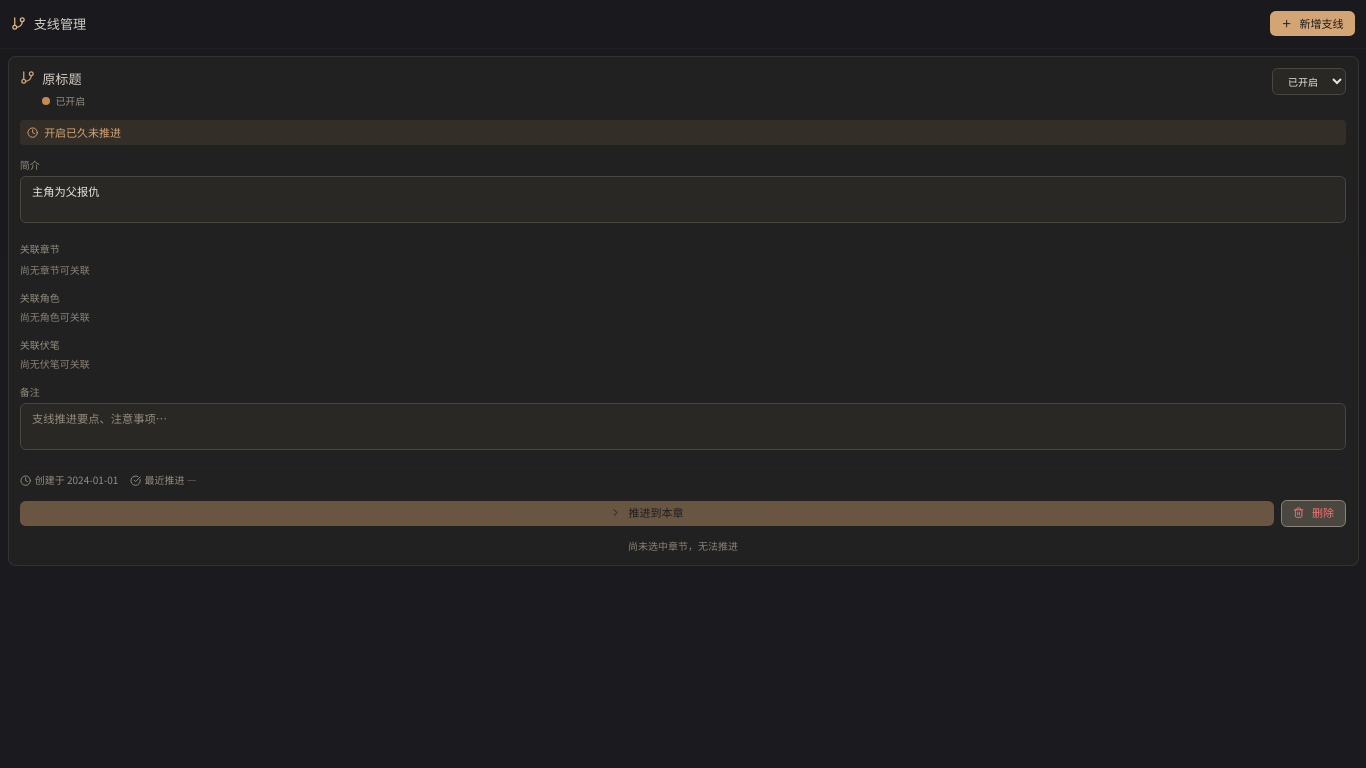
Test: SubplotPanel › 点击标题进入编辑模式
Click the button "原标题".
click(62, 79)  # box 42,68 -> 1264,89
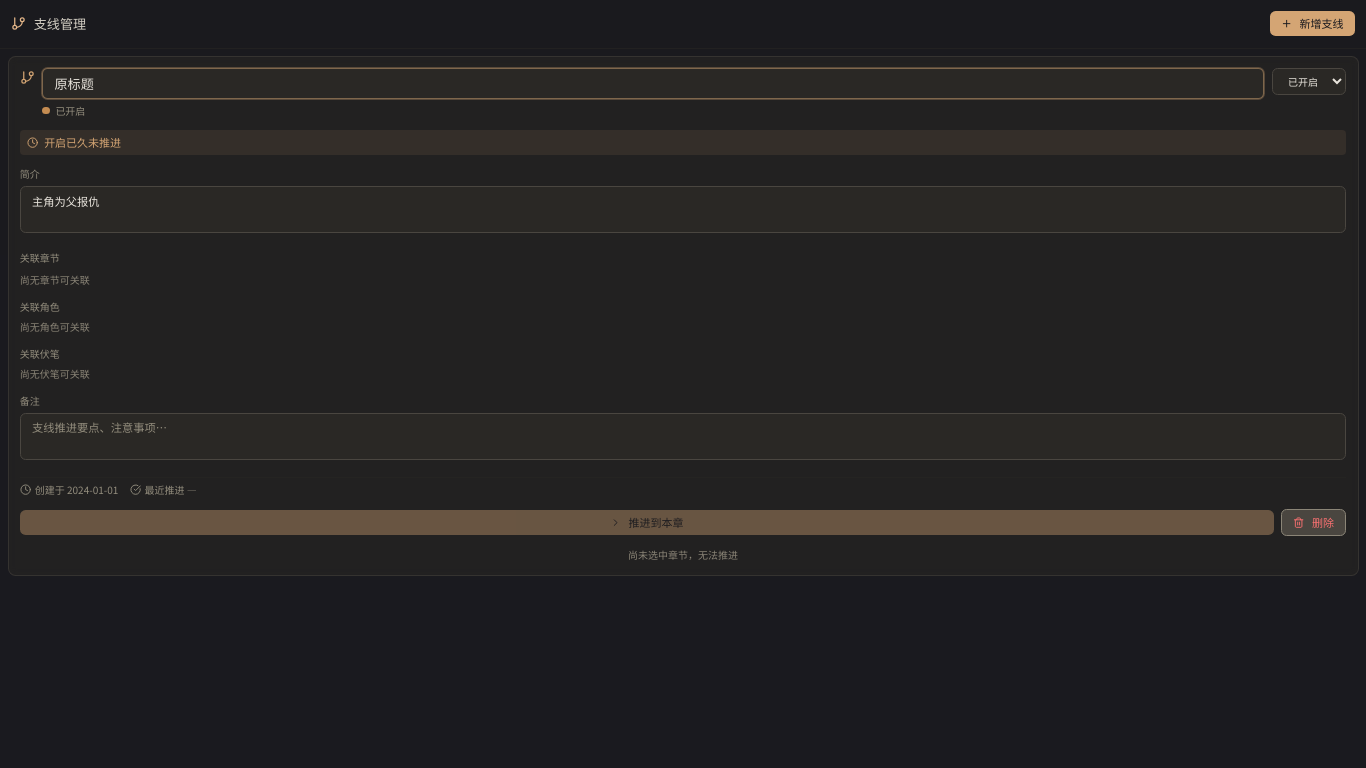
Check: the field showing "原标题" is shown, box 42,68 -> 1264,99
